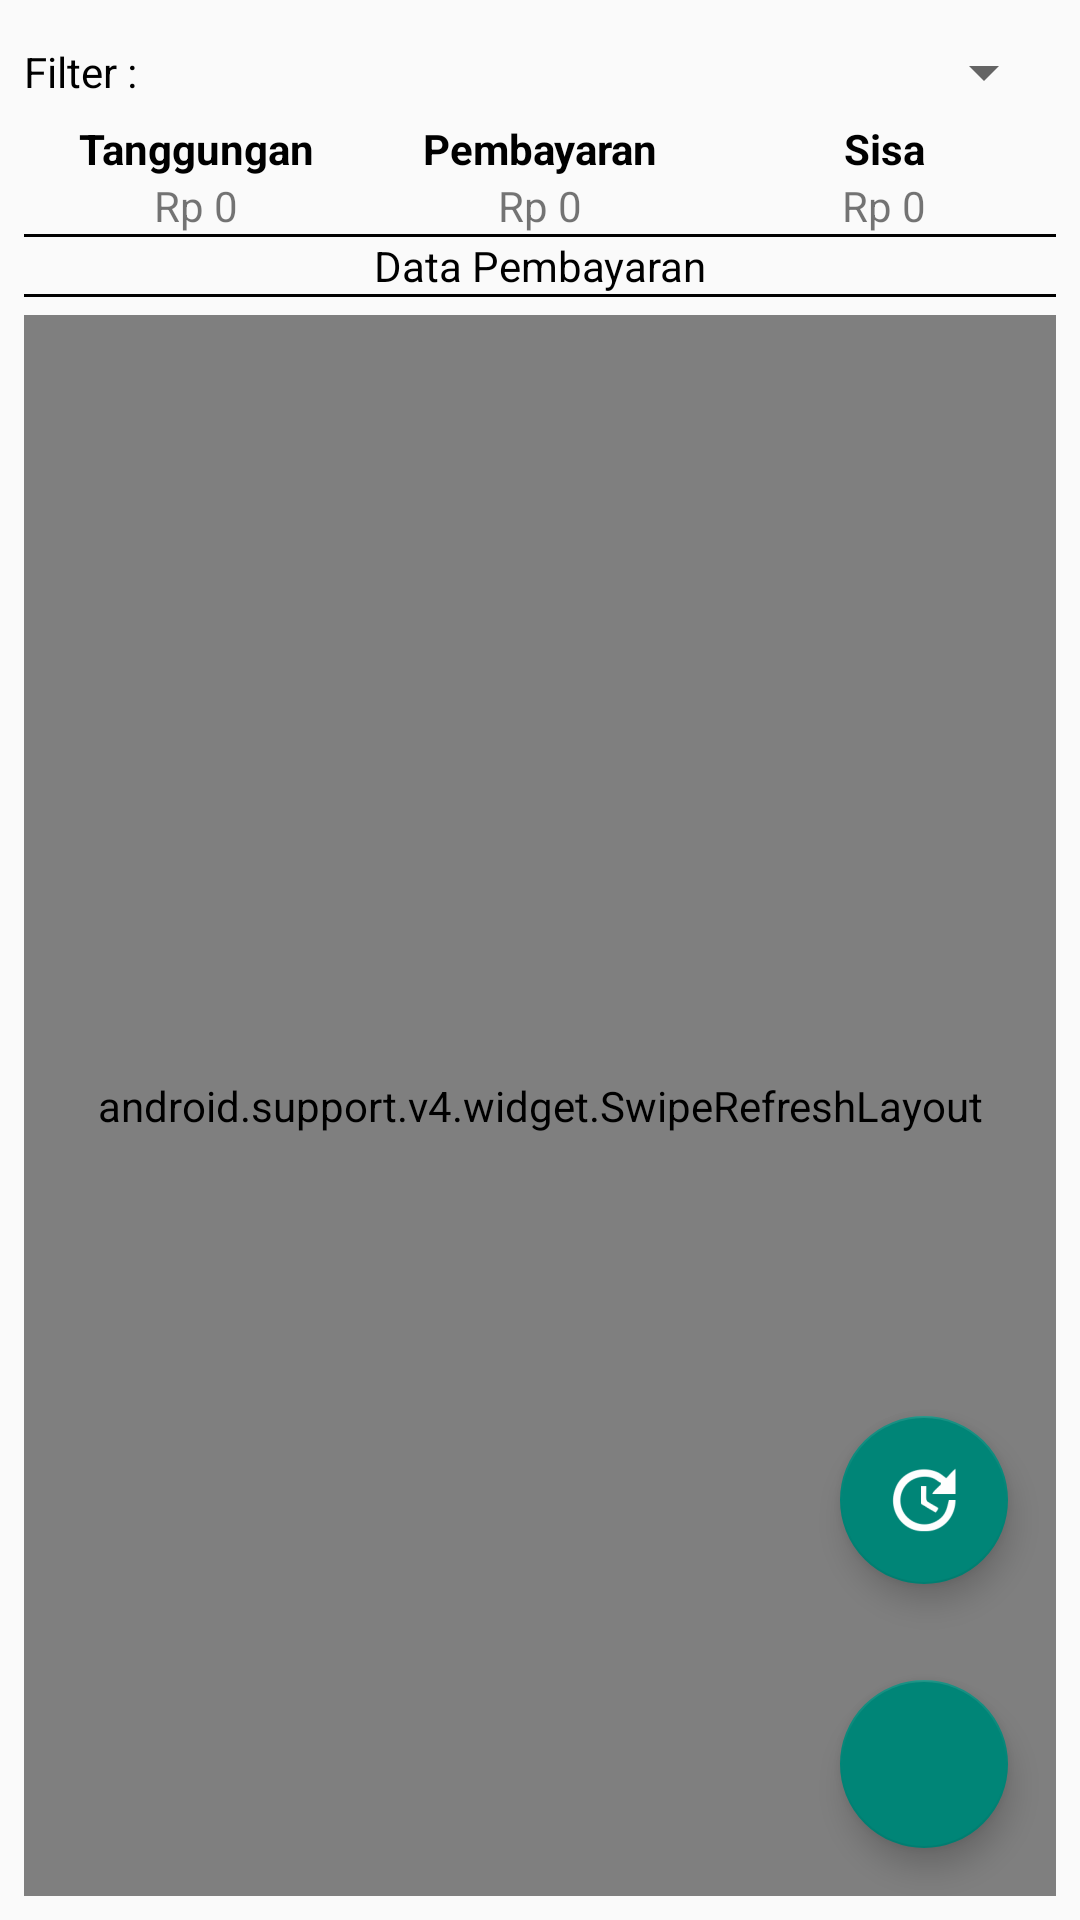

Icons on this 1080px×1920px Android screen, each with the point to tap as (x=x, y=y):
reset: (x=924, y=1500)
